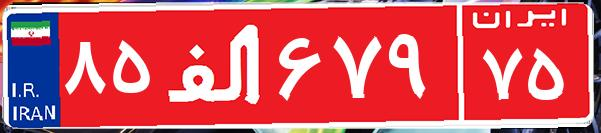5: (110, 28, 158, 105), (525, 38, 570, 115)
6: (273, 28, 330, 110)
7: (330, 28, 385, 110), (475, 38, 525, 113)
8: (57, 26, 110, 107)
9: (385, 28, 445, 110)
الف: (158, 15, 273, 115)
